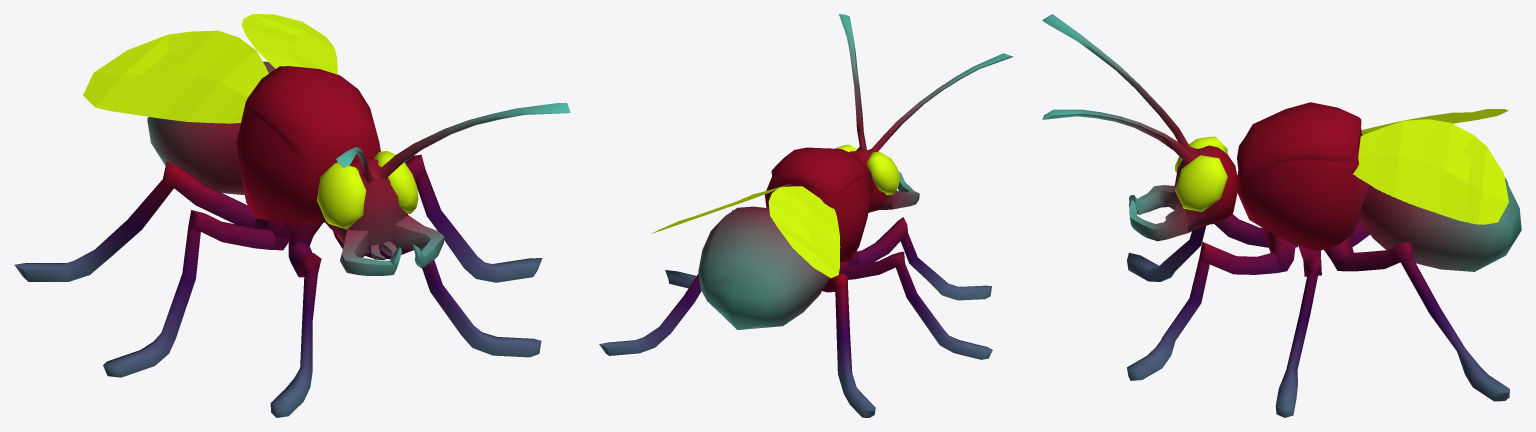
Rendered from Fly.fbx.
3 renders of one model, left to right at view 1: azimuth 30°, elevation 25°; view 2: azimuth 150°, elevation 25°; view 3: azimuth 270°, elevation 25°, orthographic. The views are drawn at different scales.
Visible parts, largest first — view 1: Body, Wing Left, Head, Leg Left 2, Leg Left 3, Wing Right, Leg Left 1, Leg Right 2, Leg Right 1, Eye Left, Eye Right; view 2: Body, Wing Left, Head, Leg Left 3, Leg Left 1, Leg Left 2, Leg Right 3, Eye Left, Wing Right, Leg Right 2; view 3: Body, Wing Right, Head, Leg Right 1, Leg Right 3, Leg Left 1, Leg Right 2, Eye Right, Wing Left.
Part boxes in pixels (left/top/right/bottom): Body: left=147, top=61, right=380, bottom=222; Wing Left: left=83, top=30, right=268, bottom=123; Head: left=330, top=102, right=570, bottom=275; Leg Left 2: left=14, top=161, right=269, bottom=281; Leg Left 3: left=103, top=210, right=289, bottom=377; Wing Right: left=241, top=14, right=337, bottom=74; Leg Left 1: left=270, top=222, right=322, bottom=417; Leg Right 2: left=325, top=154, right=542, bottom=282; Leg Right 1: left=332, top=227, right=541, bottom=357; Eye Left: left=317, top=162, right=366, bottom=229; Eye Right: left=373, top=151, right=418, bottom=213; Body: left=698, top=147, right=873, bottom=329; Wing Left: left=768, top=186, right=840, bottom=278; Head: left=839, top=14, right=1013, bottom=212; Leg Left 3: left=839, top=251, right=992, bottom=359; Leg Left 1: left=847, top=217, right=991, bottom=300; Leg Left 2: left=822, top=273, right=875, bottom=417; Leg Right 3: left=599, top=274, right=701, bottom=355; Eye Left: left=867, top=151, right=900, bottom=194; Wing Right: left=651, top=184, right=790, bottom=233; Leg Right 2: left=665, top=210, right=732, bottom=288; Body: left=1237, top=102, right=1521, bottom=271; Wing Right: left=1353, top=119, right=1508, bottom=224; Head: left=1042, top=14, right=1237, bottom=241; Leg Right 1: left=1127, top=227, right=1295, bottom=380; Leg Right 3: left=1324, top=236, right=1509, bottom=401; Leg Left 1: left=1127, top=214, right=1268, bottom=281; Leg Right 2: left=1275, top=245, right=1321, bottom=417; Eye Right: left=1175, top=155, right=1227, bottom=211; Wing Left: left=1361, top=109, right=1508, bottom=135.
Bounding box in the file's own units: 392 × 246 × 410.
